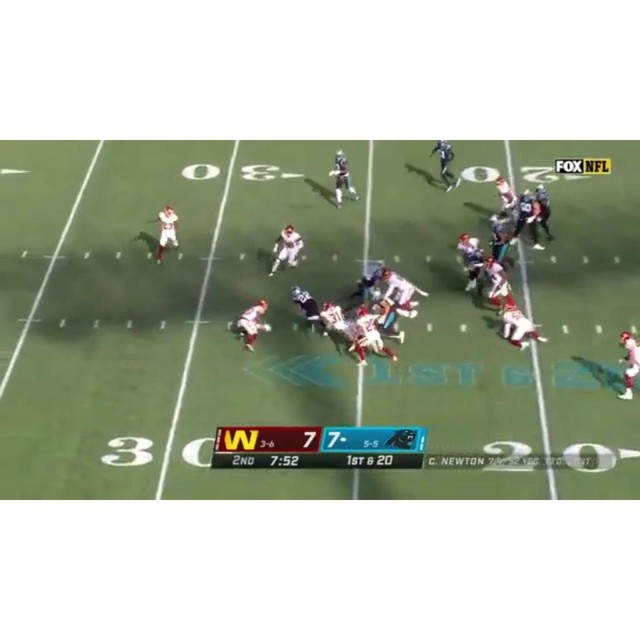american-football-player: (495, 301, 548, 351), (354, 309, 398, 366), (381, 267, 422, 318), (370, 289, 407, 344), (319, 300, 356, 354), (514, 191, 545, 252), (268, 225, 304, 276), (153, 206, 182, 266), (330, 151, 361, 207), (483, 255, 514, 310), (290, 286, 324, 335), (616, 331, 640, 400), (429, 140, 460, 192), (351, 265, 386, 305), (489, 216, 514, 266), (533, 184, 554, 242)
